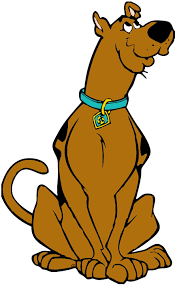scooby: (1, 1, 176, 285)
